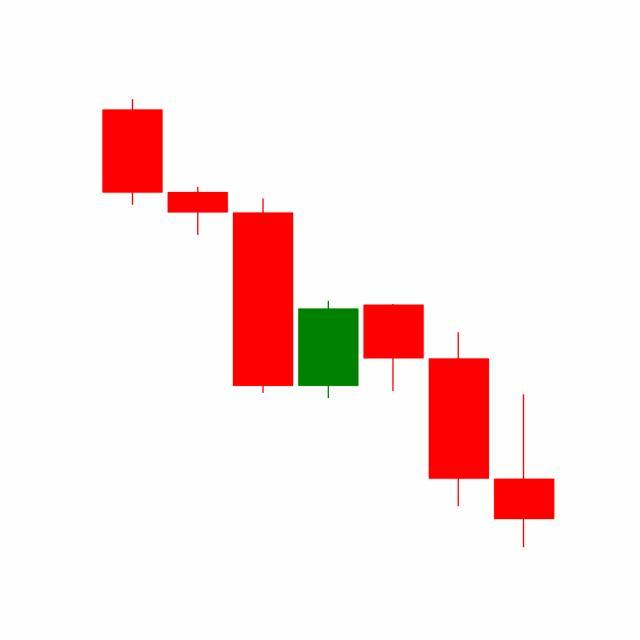Hikkake Pattern: (165, 184, 492, 511)
